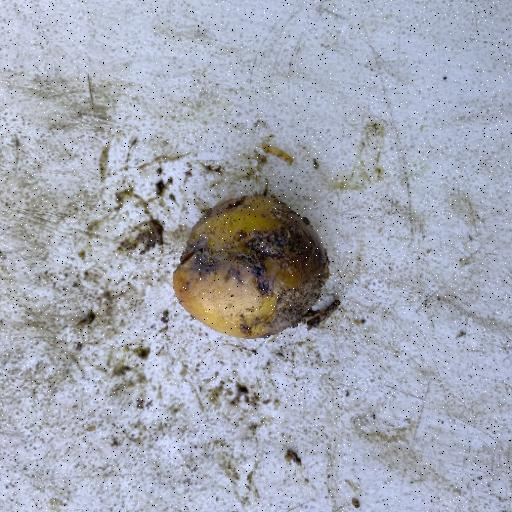Waste: (170, 190, 336, 340)
